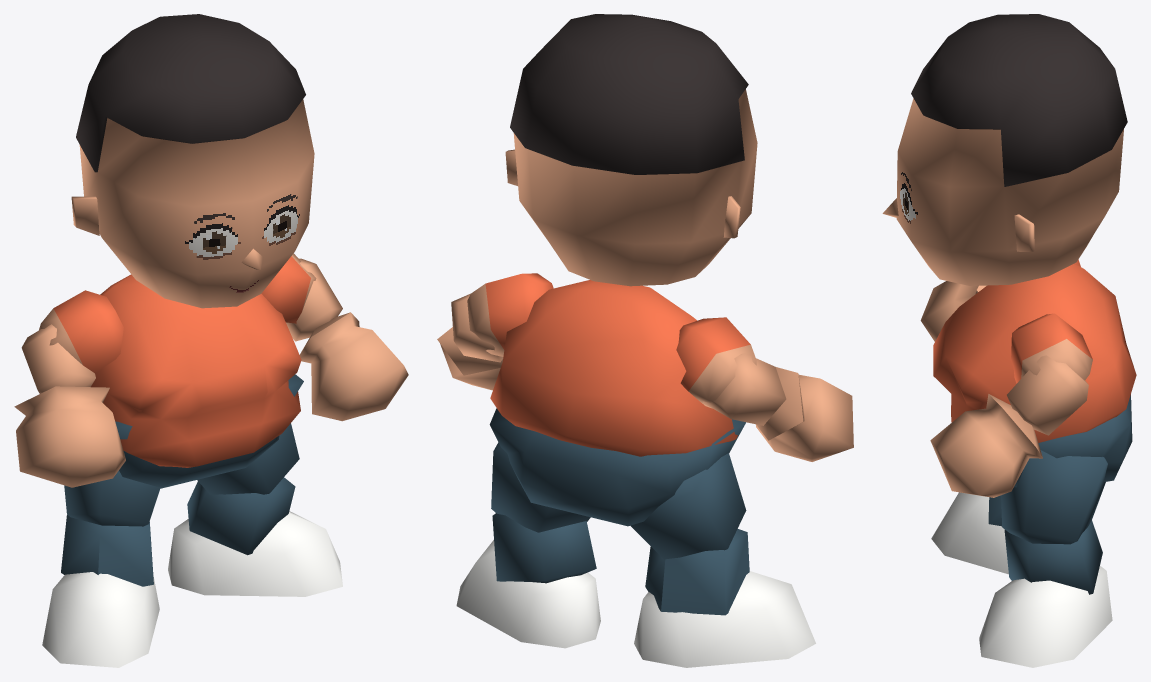
3 renders of one model, left to right at view 1: azimuth 30°, elevation 25°; view 2: azimuth 150°, elevation 25°; view 3: azimuth 270°, elevation 25°, orthographic. The views are drawn at different scales.
Visible parts, largest first — view 1: Character; view 2: Character; view 3: Character.
Boxes of the visible parts, x1,y1,x2,y2 form: Character: (14,14,408,667); Character: (437,14,853,667); Character: (882,14,1136,667).
Size of the model in its own units: 1.98 by 2.78 by 1.13.
Materials: 9 (2 with a texture image).
